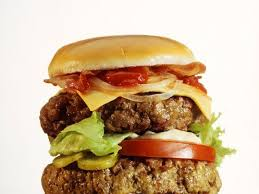hamburger: (33, 33, 226, 194)
